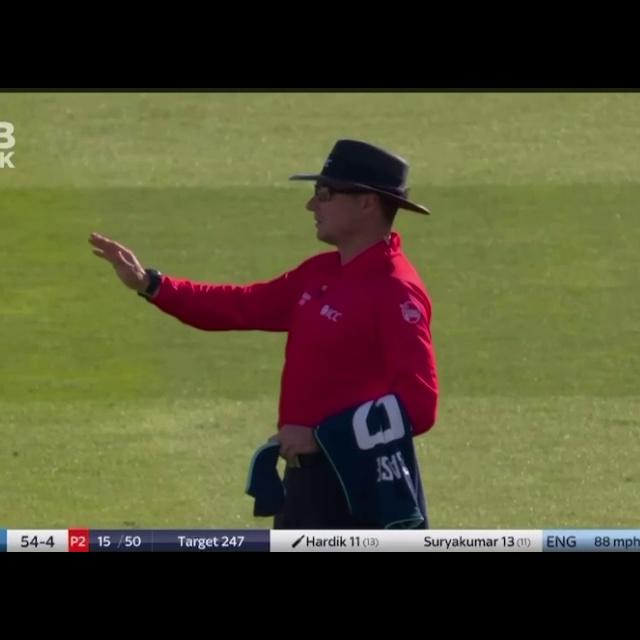umpire: (73, 114, 454, 528)
